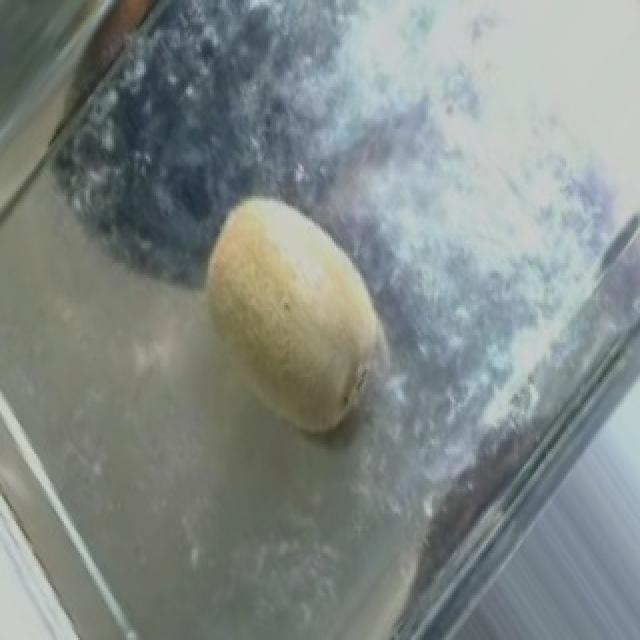Fruit: (160, 174, 414, 471)
